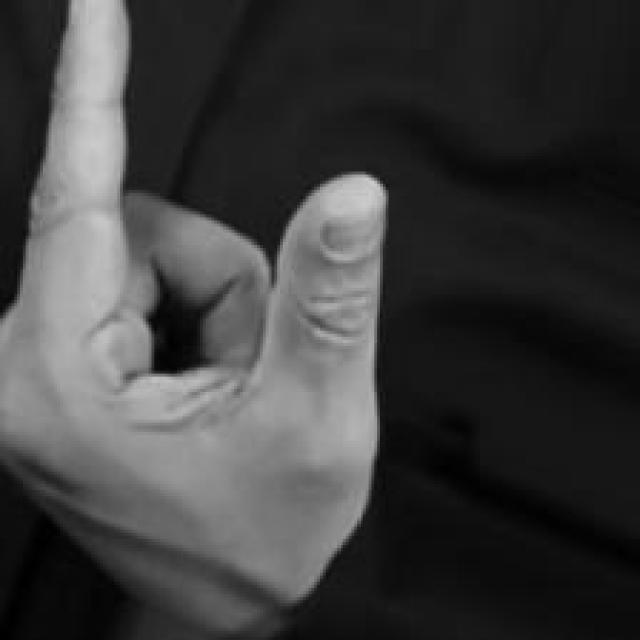U: (3, 0, 384, 640)
